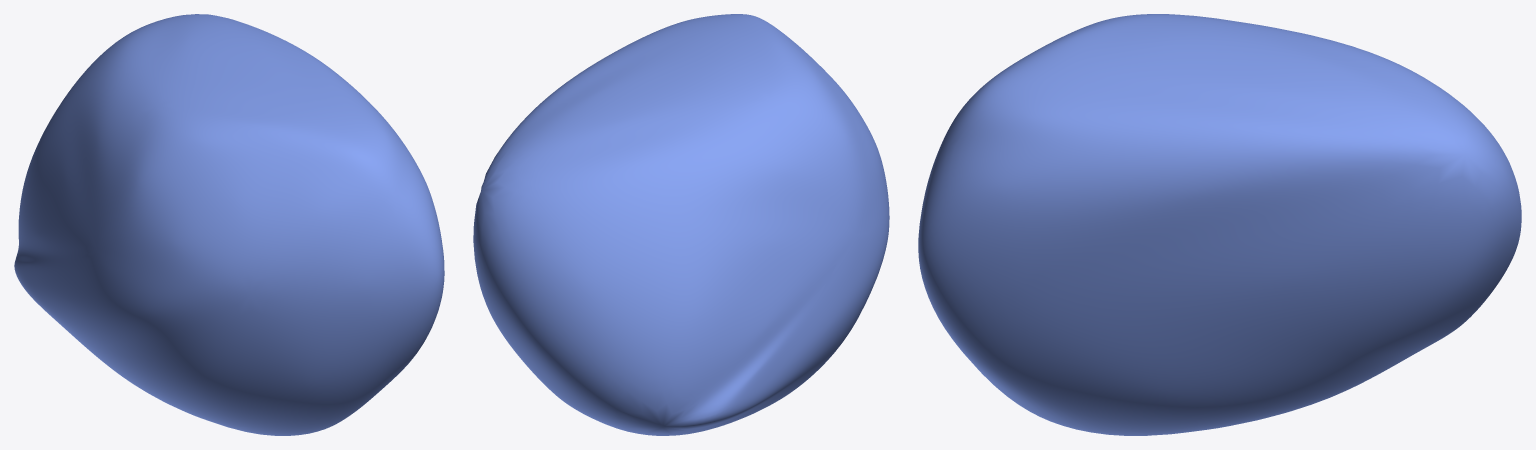
The picture shows the model from 3 angles, left to right: view 1: azimuth 30°, elevation 25°; view 2: azimuth 150°, elevation 25°; view 3: azimuth 270°, elevation 25°; orthographic projection. The views are drawn at different scales.
Visible parts, largest first — view 1: SM_CF; view 2: SM_CF; view 3: SM_CF.
Part boxes in pixels (x1,y1,x2,y2): SM_CF: [14, 14, 444, 435]; SM_CF: [473, 14, 889, 435]; SM_CF: [918, 14, 1521, 435].
Size of the model in its own units: 9.05 by 10.22 by 14.85.
